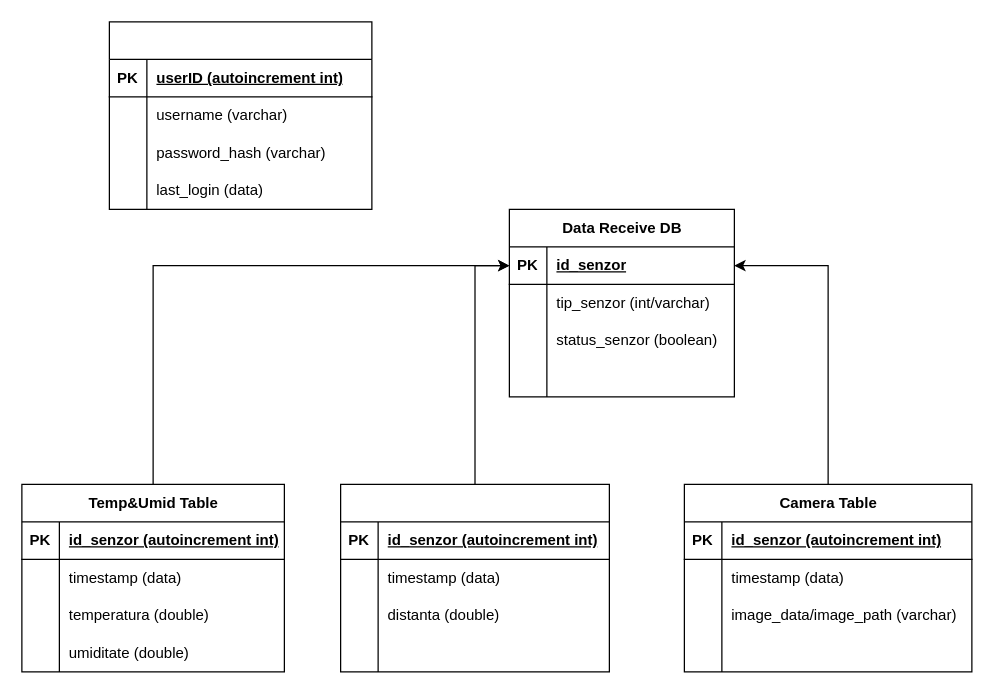
The diagram is 994 pixels wide and 694 high, and some of its shapes have lost their labels. The shapes that lost their labels are listed below. From the top down, each one's box as (x1, y1, x2, y2) in pixels, then its label:
(108, 21, 372, 209): Users DB
(339, 483, 609, 672): Distanta Table
